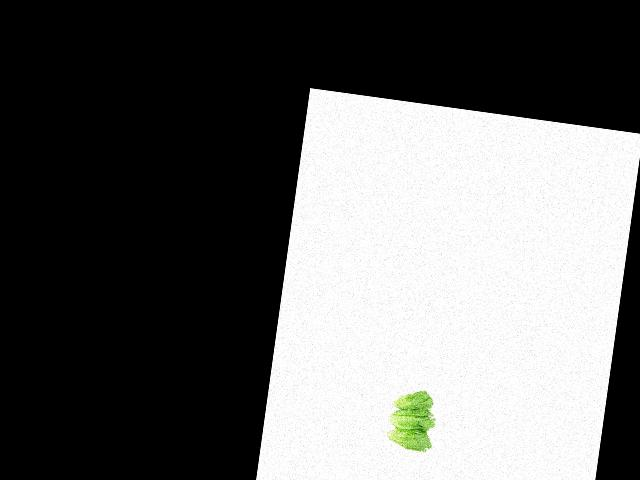lettuce: (381, 385, 436, 416)
